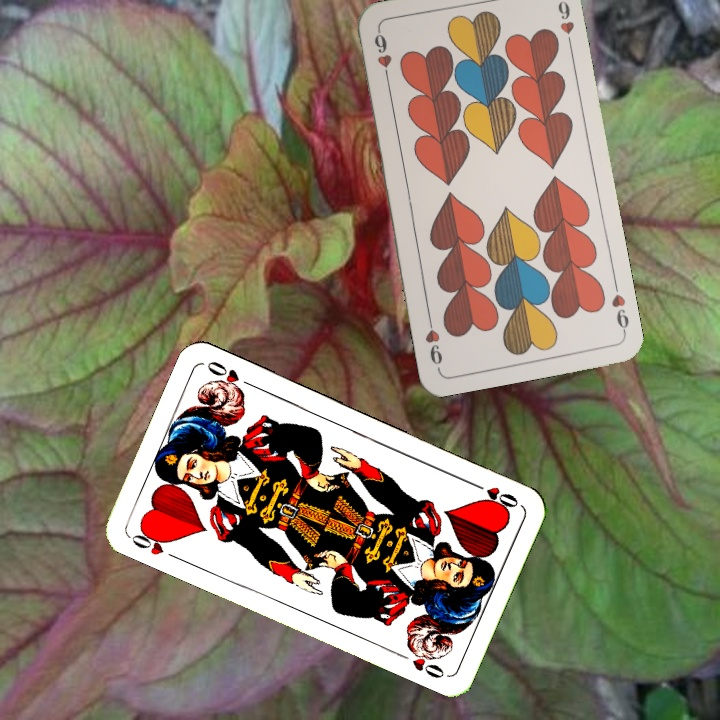H9: (607, 278, 632, 336), (370, 27, 394, 85)
HO: (126, 524, 182, 563), (466, 478, 521, 511)
